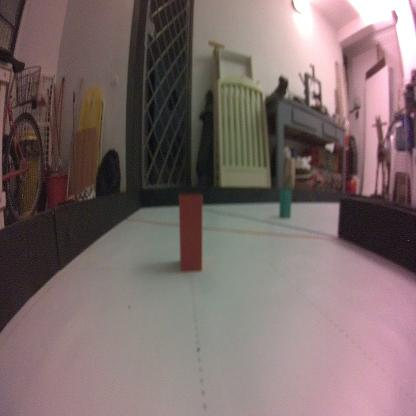green: (278, 185, 292, 221)
red: (177, 189, 203, 273)
